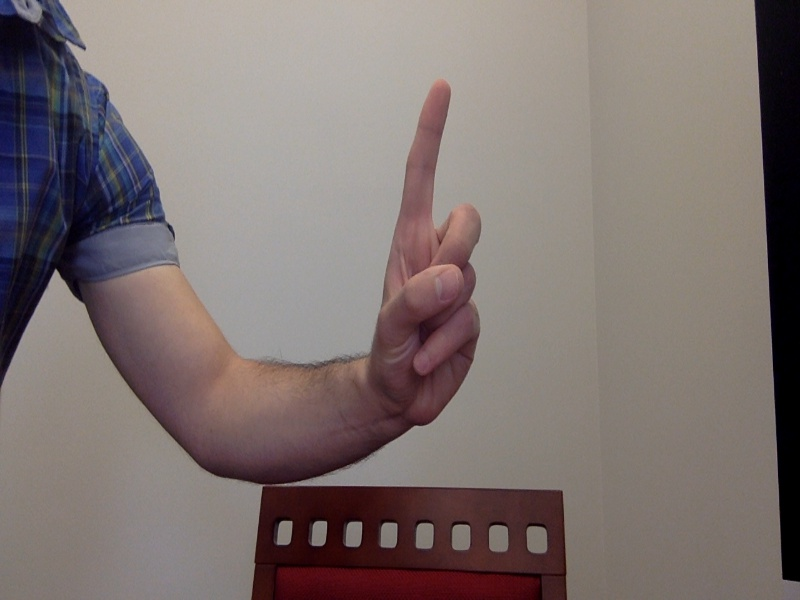1-hand: (373, 75, 490, 424)
